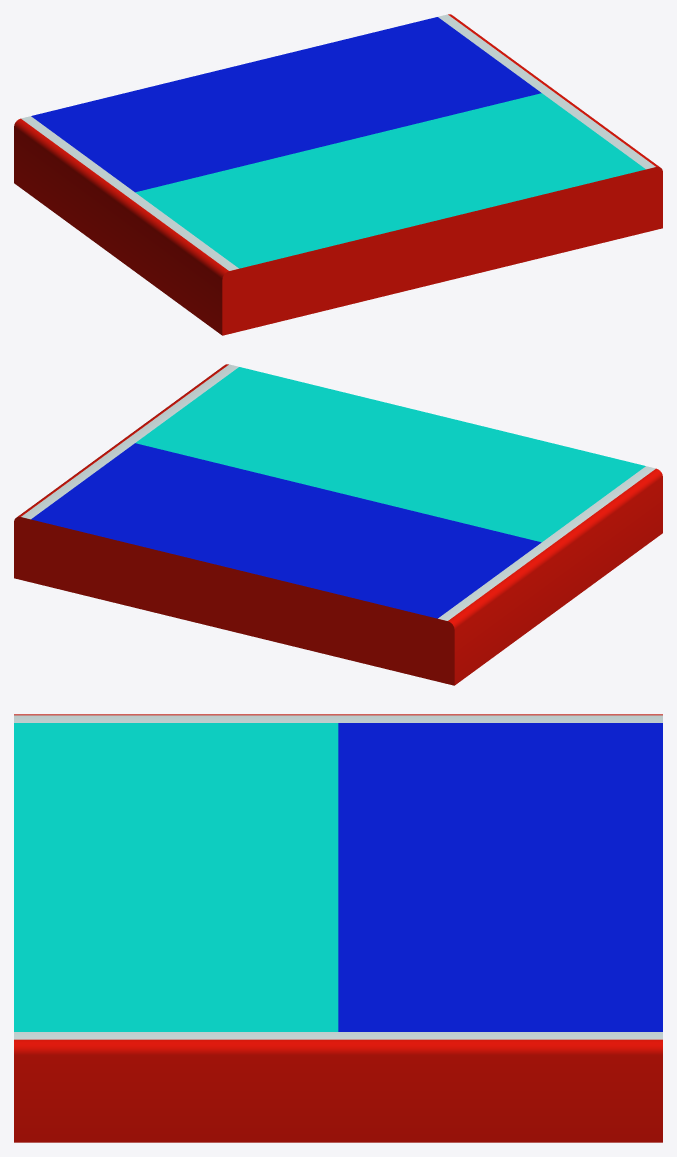
The model's file is Orta_Yol_Duz.fbx.
3 renders of one model, top to bottom at view 1: azimuth 30°, elevation 25°; view 2: azimuth 150°, elevation 25°; view 3: azimuth 270°, elevation 25°, orthographic. The views are drawn at different scales.
Parts seen in each view (by area): view 1: Orta_Yol_Duz; view 2: Orta_Yol_Duz; view 3: Orta_Yol_Duz.
Part boxes in pixels (x1,y1,x2,y2): Orta_Yol_Duz: (14,14,662,335); Orta_Yol_Duz: (14,364,662,685); Orta_Yol_Duz: (14,714,662,1142).
Size of the model in its own units: 1098 by 150 by 900.
